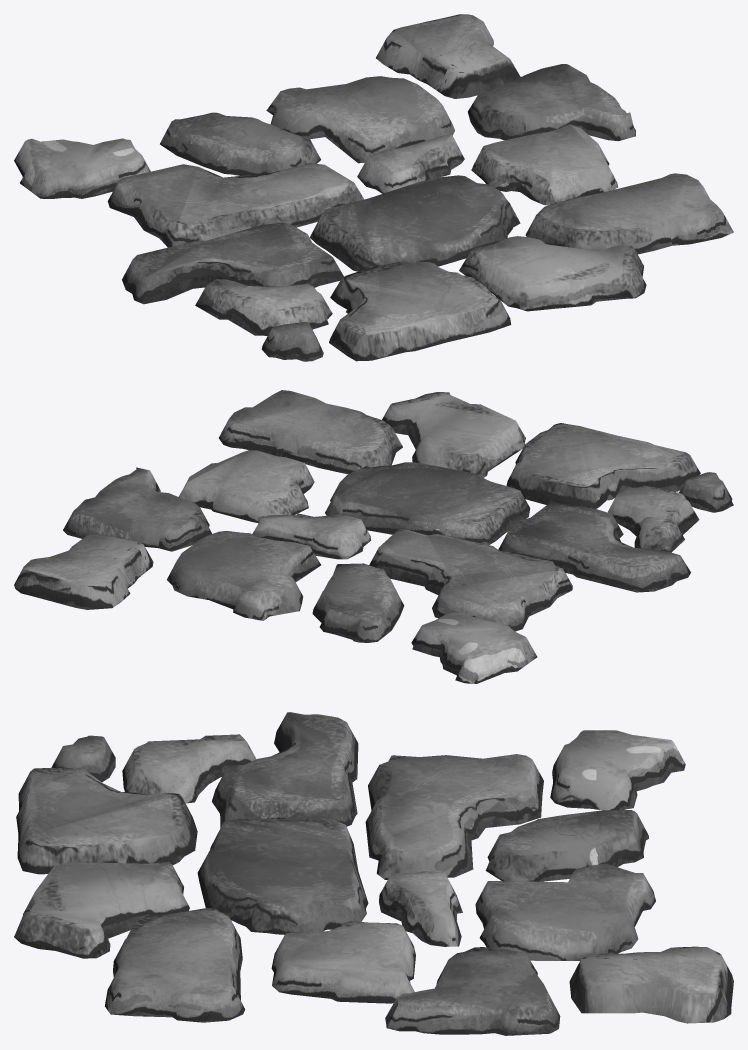
File: StoneFloorTile01.fbx
The picture shows the model from 3 angles, top to bottom: view 1: azimuth 30°, elevation 25°; view 2: azimuth 150°, elevation 25°; view 3: azimuth 270°, elevation 25°; orthographic projection. The views are drawn at different scales.
Visible parts, largest first — view 1: StoneFloorTile01; view 2: StoneFloorTile01; view 3: StoneFloorTile01.
Part boxes in pixels (x1,y1,x2,y2): StoneFloorTile01: (14, 14, 733, 361); StoneFloorTile01: (14, 390, 733, 683); StoneFloorTile01: (14, 712, 733, 1035).
Size of the model in its own units: 471 by 16.44 by 469.
